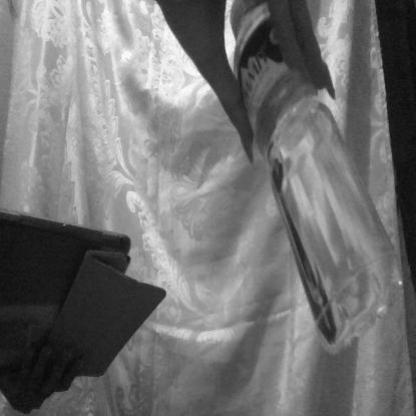Plastic Bottle: (218, 4, 407, 398)
